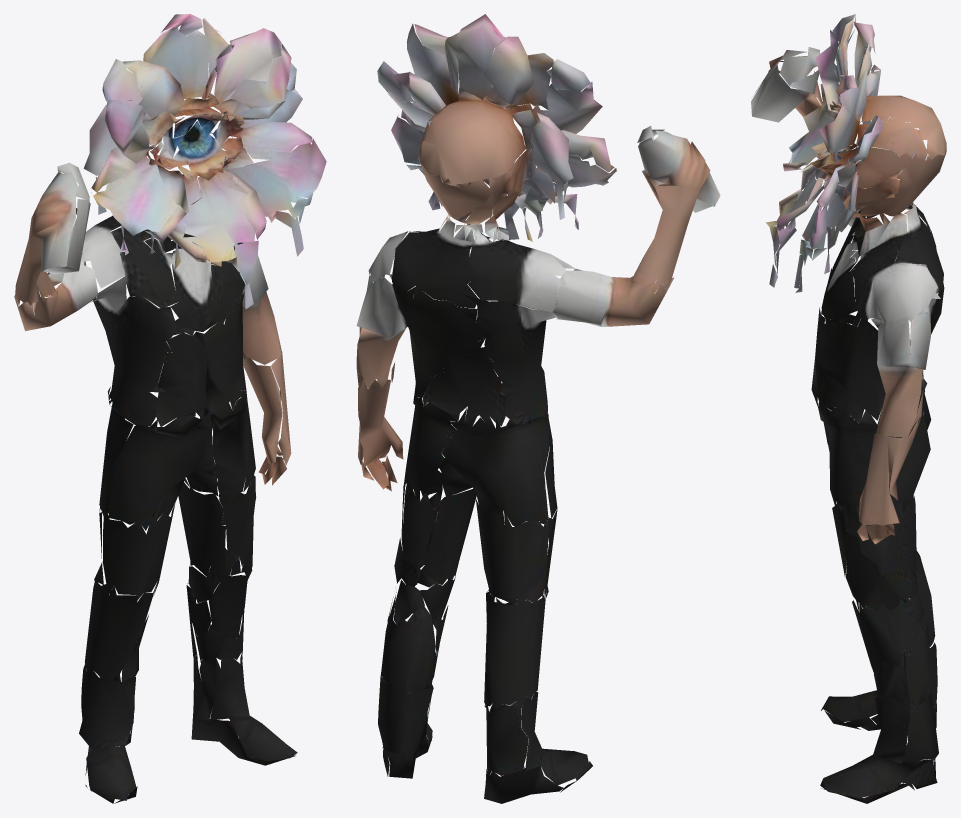
File: crowd_bartender.glb
3 renders of one model, left to right at view 1: azimuth 30°, elevation 25°; view 2: azimuth 150°, elevation 25°; view 3: azimuth 270°, elevation 25°, orthographic. The views are drawn at different scales.
Visible parts, largest first — view 1: tripo_node_8f611393-628a-4c04-9a16-76a25f729728; view 2: tripo_node_8f611393-628a-4c04-9a16-76a25f729728; view 3: tripo_node_8f611393-628a-4c04-9a16-76a25f729728.
Boxes of the visible parts, x1,y1,x2,y2 form: tripo_node_8f611393-628a-4c04-9a16-76a25f729728: [14, 14, 326, 803]; tripo_node_8f611393-628a-4c04-9a16-76a25f729728: [356, 14, 720, 803]; tripo_node_8f611393-628a-4c04-9a16-76a25f729728: [751, 14, 946, 803].
Bounding box in the file's own units: 0.7968 × 1.88 × 0.4568.
1 material, 1 textured.
